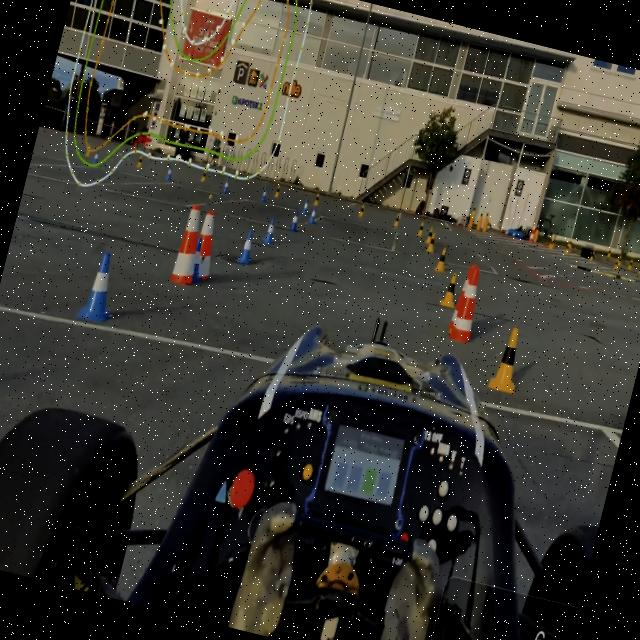blue_cone: (70, 241, 130, 334), (184, 233, 210, 286), (235, 226, 261, 266), (260, 214, 282, 248), (286, 208, 303, 234), (306, 205, 318, 227), (300, 196, 312, 216), (220, 177, 232, 196), (259, 184, 270, 203), (164, 165, 175, 183)
large_orange_cone: (165, 198, 212, 288), (448, 259, 490, 347), (188, 200, 225, 284), (444, 260, 481, 338), (528, 222, 538, 244)
yellow_cone: (481, 318, 534, 400), (438, 266, 464, 312), (432, 244, 452, 276), (424, 232, 438, 254), (424, 225, 436, 245), (414, 220, 426, 239), (392, 211, 402, 229), (272, 182, 282, 200), (356, 202, 366, 218), (199, 168, 209, 184), (312, 191, 321, 207)
